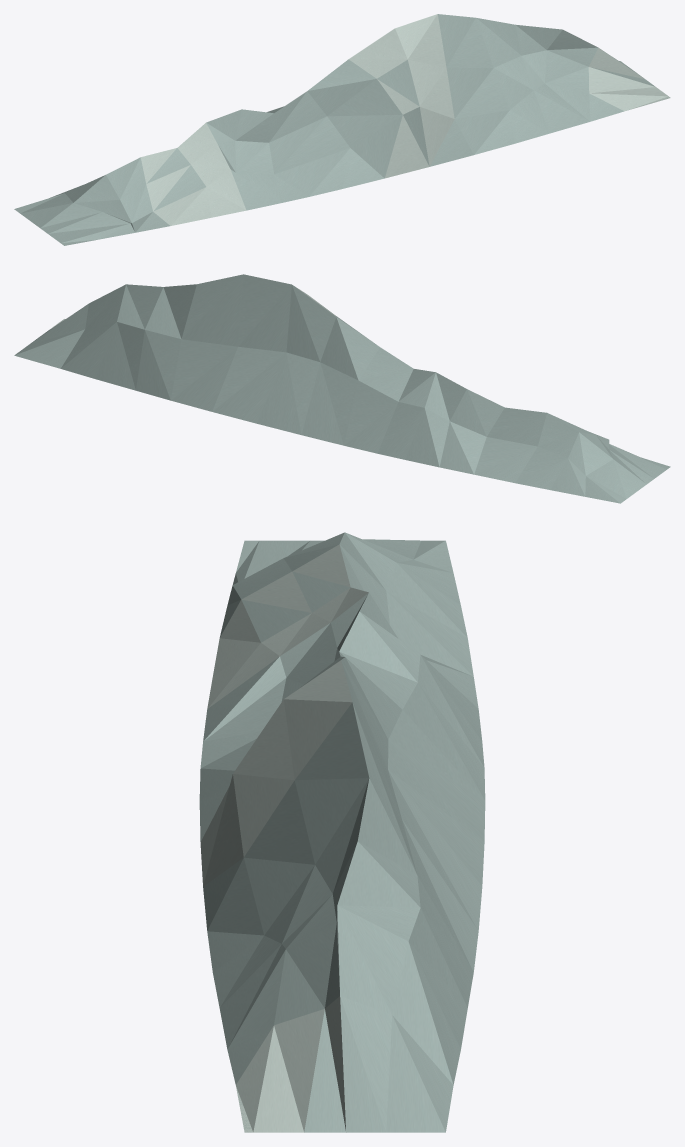
File: 07_mountain_far.obj
3 renders of one model, top to bottom at view 1: azimuth 30°, elevation 25°; view 2: azimuth 150°, elevation 25°; view 3: azimuth 270°, elevation 25°, orthographic. The views are drawn at different scales.
Visible parts, largest first — view 1: Mountain_Far; view 2: Mountain_Far; view 3: Mountain_Far.
Boxes of the visible parts, left/top/right/bottom form: Mountain_Far: left=14, top=14, right=670, bottom=245; Mountain_Far: left=14, top=274, right=670, bottom=503; Mountain_Far: left=199, top=532, right=485, bottom=1132.
Bounding box in the file's own units: 20.4 × 3.68 × 4.16.
1 material, 1 textured.
